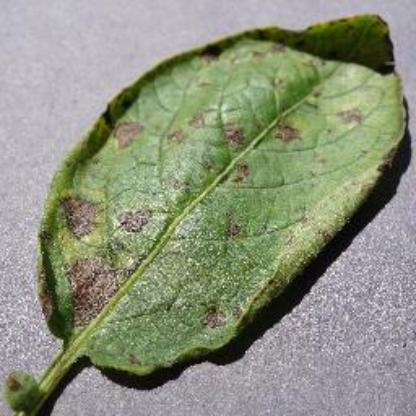Early-Blight: (7, 3, 415, 415)
